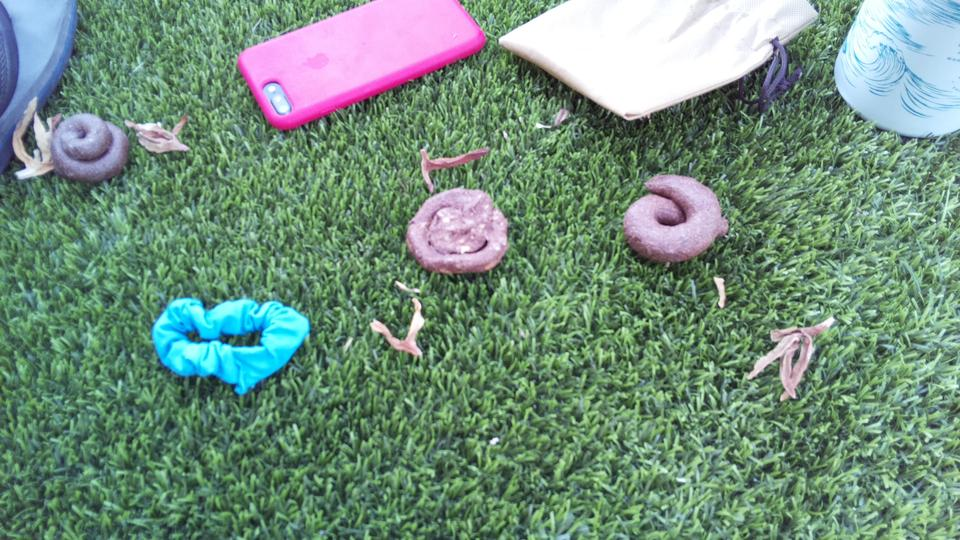poop: (613, 165, 733, 270), (400, 186, 511, 279), (39, 109, 133, 187)
